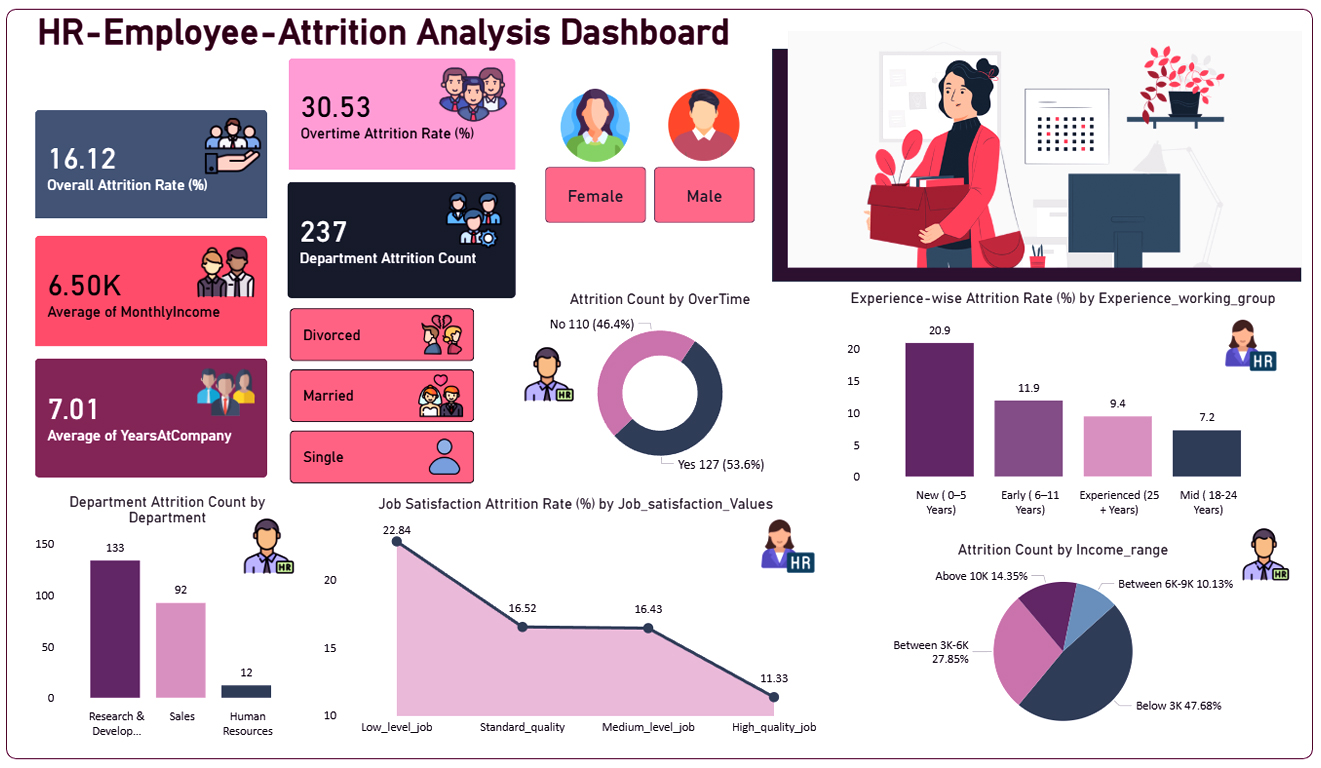

What the dashboard file says about the page in this screenshot:
{"tool":"powerbi","page":{"name":"Page 1","canvas":[1300,760],"ordinal":0},"visuals":[{"type":"shape","box":[760,50.7,519.7,228.8],"z":0},{"type":"image","box":[775.3,27.8,506.3,243.1],"z":1000},{"type":"cardVisual","fields":{"Data":["HR-Employee-Attrition.Overall Attrition Rate (%)"]},"box":[19.1,93.8,262.3,147.4],"z":2000},{"type":"cardVisual","fields":{"Data":["Avg(HR-Employee-Attrition.MonthlyIncome)"]},"box":[19.1,217.3,262.3,148.4],"z":3000},{"type":"cardVisual","fields":{"Data":["Avg(HR-Employee-Attrition.YearsAtCompany)"]},"box":[19.1,337.9,262.3,151.2],"z":4000},{"type":"cardVisual","fields":{"Data":["HR-Employee-Attrition.Overtime Attrition Rate (%)"]},"box":[268,43.1,257.5,147.4],"z":5000},{"type":"cardVisual","fields":{"Data":["HR-Employee-Attrition.Department Attrition Count"]},"box":[267.1,164.6,258.4,148.4],"z":6000},{"type":"columnChart","fields":{"Category":["HR-Employee-Attrition.Department"],"Y":["HR-Employee-Attrition.Department Attrition Count"]},"box":[30.6,487.2,270.9,247.9],"z":7000},{"type":"donutChart","fields":{"Category":["HR-Employee-Attrition.OverTime"],"Y":["HR-Employee-Attrition.Attrition Count"]},"box":[486.2,288.1,327.4,185.7],"z":8000},{"type":"pieChart","fields":{"Category":["HR-Employee-Attrition.Income_range"],"Y":["HR-Employee-Attrition.Attrition Count"]},"box":[828,534.1,435.5,201],"z":9000},{"type":"columnChart","fields":{"Category":["HR-Employee-Attrition.Experience_working_group"],"Y":["HR-Employee-Attrition.Experience-wise Attrition Rate (%)"]},"box":[828,287.2,435.5,230.7],"z":10000},{"type":"areaChart","fields":{"Category":["HR-Employee-Attrition.Job_satisfaction_Values"],"Y":["HR-Employee-Attrition.Job Satisfaction Attrition Rate (%)"]},"box":[314,489.1,506.3,244.1],"z":11000},{"type":"advancedSlicerVisual","fields":{"Values":["HR-Employee-Attrition.Gender"]},"box":[532.2,161.8,216.3,65.1],"z":12000},{"type":"advancedSlicerVisual","fields":{"Values":["HR-Employee-Attrition.MaritalStatus"]},"box":[281.4,300.5,191.4,184.7],"z":13000},{"type":"image","box":[649,90,88.1,70.8],"z":14000},{"type":"image","box":[542.8,90,87.1,71.8],"z":15000},{"type":"image","box":[413.5,312,44,39.2],"z":16000},{"type":"image","box":[412.5,368.5,44,45.9],"z":17000},{"type":"image","box":[419.2,427.8,38.3,46.9],"z":18000},{"type":"image","box":[427.9,62.2,76.6,67],"z":19000},{"type":"image","box":[202.9,118.7,54.6,55.5],"z":20000},{"type":"image","box":[189.5,242.2,68,55.5],"z":21000},{"type":"image","box":[438.4,191.4,56.5,54.6],"z":22000},{"type":"image","box":[185.7,358.9,76.6,58.4],"z":23000},{"type":"image","box":[238.3,509.2,54.6,60.3],"z":24000},{"type":"image","box":[748.5,509.2,53.6,60.3],"z":25000},{"type":"image","box":[1204.1,313,51.7,58.4],"z":26000},{"type":"image","box":[1219.4,517.8,50.7,58.4],"z":27000},{"type":"image","box":[514,337.9,53.6,65.1],"z":28000},{"type":"shape","box":[30.6,10.5,695.9,51.7],"z":29000},{"type":"shape","box":[7.7,11.5,1283.6,737],"z":29001}]}

Visuals, with their boxes in screenshot pixels (x1, y1, x2, y2), scaled from the page's 1300x760 canvas onto the 1321x768 screenshot:
shape: {"left": 772, "top": 51, "right": 1300, "bottom": 282}
image: {"left": 788, "top": 28, "right": 1302, "bottom": 274}
cardVisual - HR-Employee-Attrition.Overall Attrition Rate (%): {"left": 19, "top": 95, "right": 286, "bottom": 244}
cardVisual - Avg(HR-Employee-Attrition.MonthlyIncome): {"left": 19, "top": 220, "right": 286, "bottom": 370}
cardVisual - Avg(HR-Employee-Attrition.YearsAtCompany): {"left": 19, "top": 341, "right": 286, "bottom": 494}
cardVisual - HR-Employee-Attrition.Overtime Attrition Rate (%): {"left": 272, "top": 44, "right": 534, "bottom": 193}
cardVisual - HR-Employee-Attrition.Department Attrition Count: {"left": 271, "top": 166, "right": 534, "bottom": 316}
columnChart - HR-Employee-Attrition.Department x HR-Employee-Attrition.Department Attrition Count: {"left": 31, "top": 492, "right": 306, "bottom": 743}
donutChart - HR-Employee-Attrition.OverTime x HR-Employee-Attrition.Attrition Count: {"left": 494, "top": 291, "right": 827, "bottom": 479}
pieChart - HR-Employee-Attrition.Income_range x HR-Employee-Attrition.Attrition Count: {"left": 841, "top": 540, "right": 1284, "bottom": 743}
columnChart - HR-Employee-Attrition.Experience_working_group x HR-Employee-Attrition.Experience-wise Attrition Rate (%): {"left": 841, "top": 290, "right": 1284, "bottom": 523}
areaChart - HR-Employee-Attrition.Job_satisfaction_Values x HR-Employee-Attrition.Job Satisfaction Attrition Rate (%): {"left": 319, "top": 494, "right": 834, "bottom": 741}
advancedSlicerVisual - HR-Employee-Attrition.Gender: {"left": 541, "top": 164, "right": 761, "bottom": 229}
advancedSlicerVisual - HR-Employee-Attrition.MaritalStatus: {"left": 286, "top": 304, "right": 480, "bottom": 490}
image: {"left": 659, "top": 91, "right": 749, "bottom": 162}
image: {"left": 552, "top": 91, "right": 640, "bottom": 164}
image: {"left": 420, "top": 315, "right": 465, "bottom": 355}
image: {"left": 419, "top": 372, "right": 464, "bottom": 419}
image: {"left": 426, "top": 432, "right": 465, "bottom": 480}
image: {"left": 435, "top": 63, "right": 513, "bottom": 131}
image: {"left": 206, "top": 120, "right": 262, "bottom": 176}
image: {"left": 193, "top": 245, "right": 262, "bottom": 301}
image: {"left": 445, "top": 193, "right": 503, "bottom": 249}
image: {"left": 189, "top": 363, "right": 267, "bottom": 422}
image: {"left": 242, "top": 515, "right": 298, "bottom": 575}
image: {"left": 761, "top": 515, "right": 815, "bottom": 575}
image: {"left": 1224, "top": 316, "right": 1276, "bottom": 375}
image: {"left": 1239, "top": 523, "right": 1291, "bottom": 582}
image: {"left": 522, "top": 341, "right": 577, "bottom": 407}
shape: {"left": 31, "top": 11, "right": 738, "bottom": 63}
shape: {"left": 8, "top": 12, "right": 1312, "bottom": 756}
